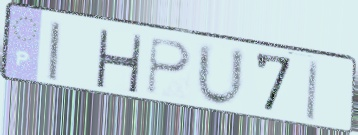7: (254, 50, 294, 117)
H: (93, 27, 145, 96)
I: (46, 19, 63, 83), (304, 58, 320, 124)
P: (145, 35, 194, 97)
U: (194, 39, 247, 110)
